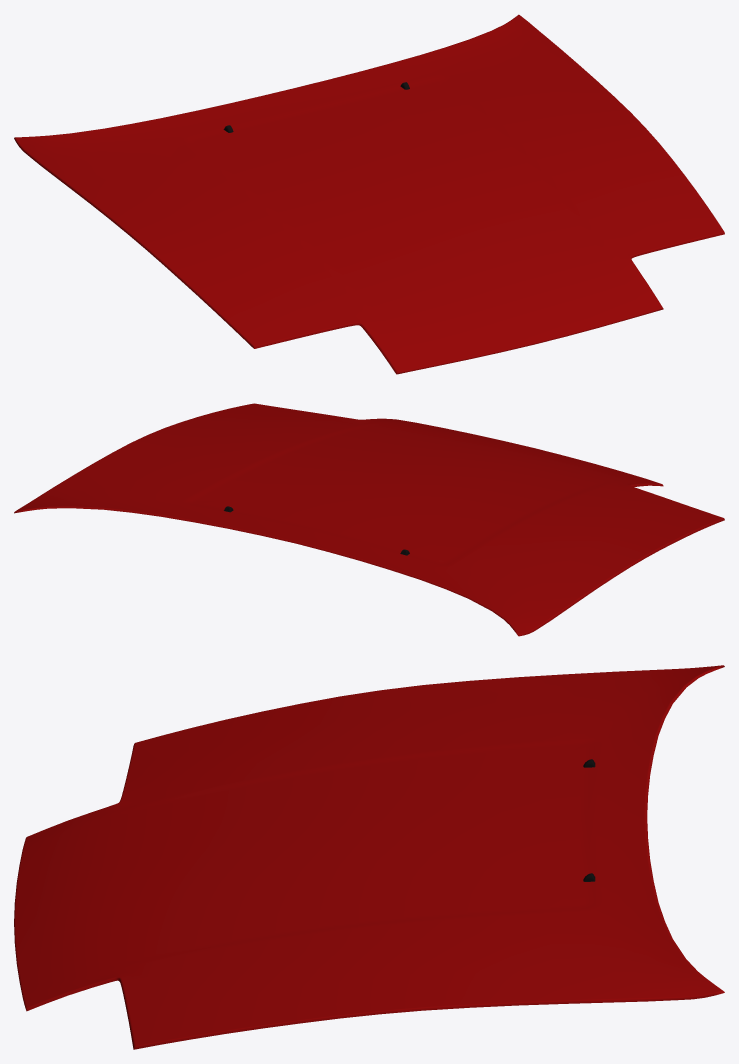
The model's file is bonnet_oem.glb.
3 renders of one model, top to bottom at view 1: azimuth 30°, elevation 25°; view 2: azimuth 150°, elevation 25°; view 3: azimuth 270°, elevation 25°, orthographic. The views are drawn at different scales.
Parts seen in each view (by area): view 1: Bonnet; view 2: Bonnet; view 3: Bonnet.
Boxes of the visible parts, x1,y1,x2,y2 form: Bonnet: (14, 14, 724, 374); Bonnet: (14, 403, 724, 636); Bonnet: (14, 665, 724, 1049).
Bounding box in the file's own units: 1.45 × 0.2267 × 1.33.
